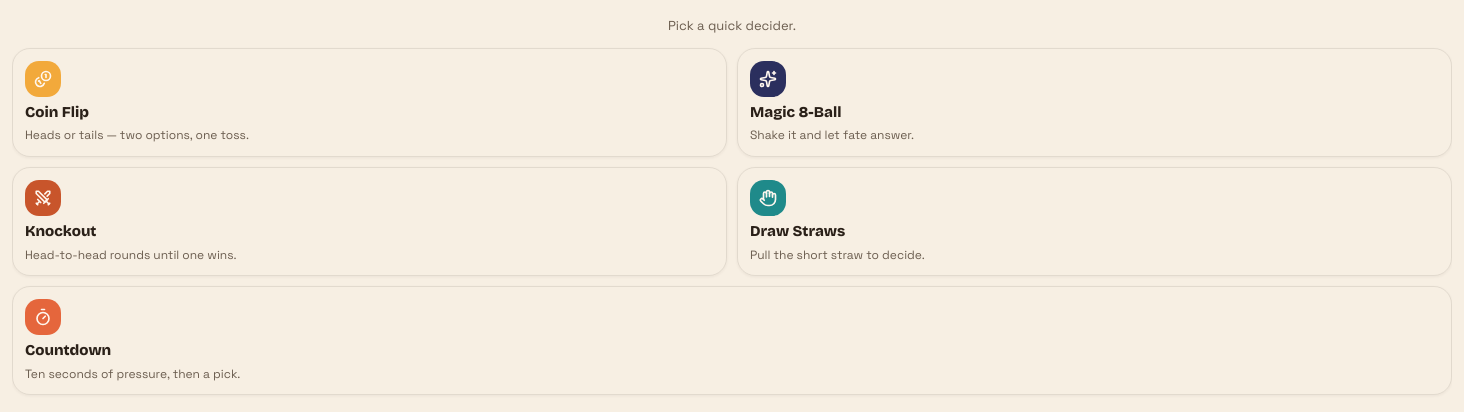
Test case: knockout bracket › treats a non-final pick as a step (tick sound, no commit yet)
This screenshot has width=1464, height=412.
Click the button with test id "bonus-menu-bracket".
click(43, 198)  # box [12,167,727,276]
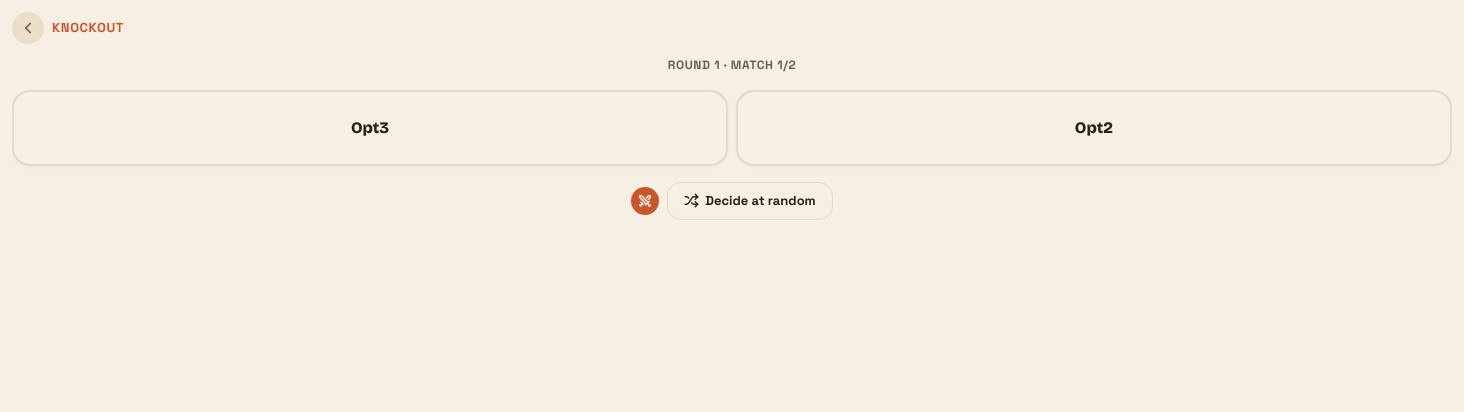
Click the button with test id "bracket-pick-0".
click(370, 128)  # box [12,90,728,166]
Wait 1150 ms
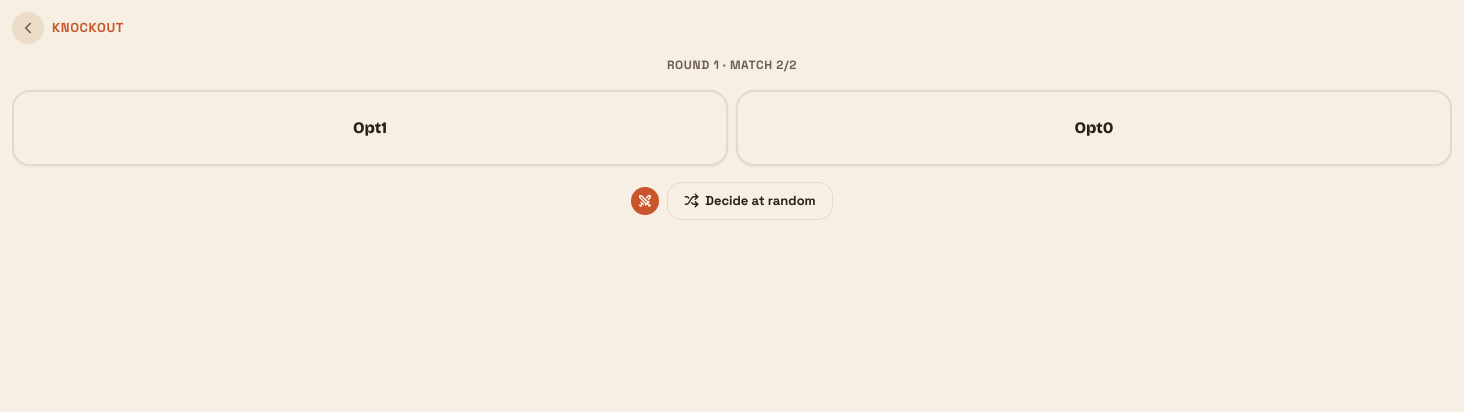
expect the text "Round 1 · Match 2/2" is shown: met, box [667,57,797,73]
